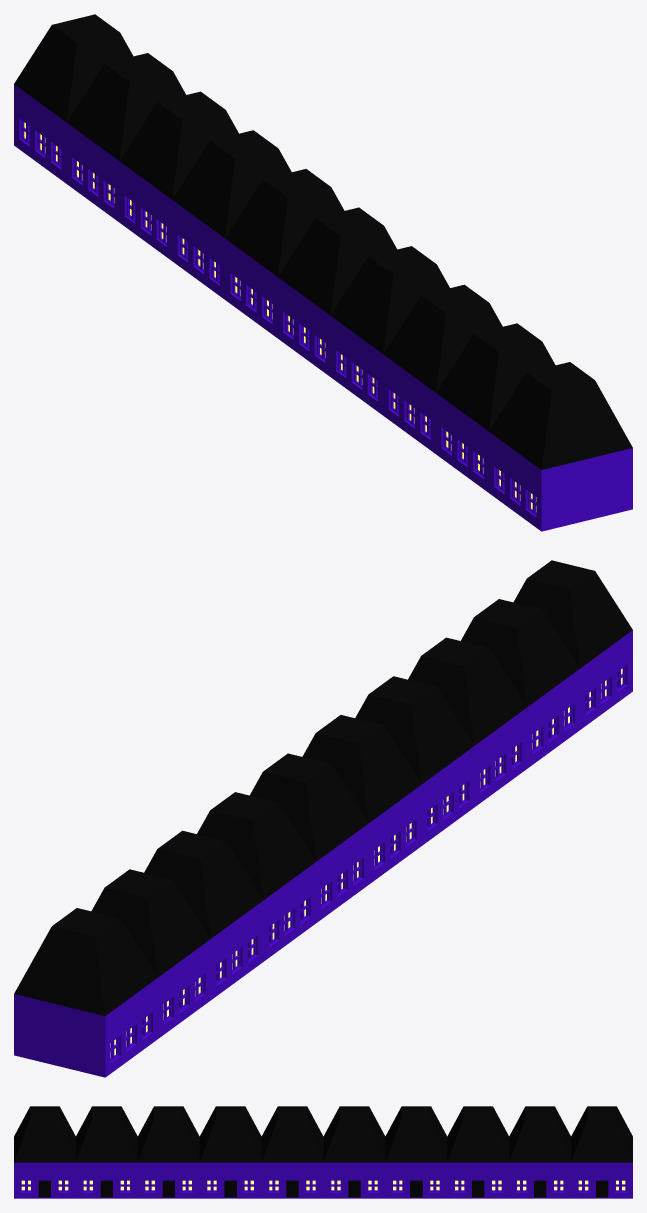
File: bungalows_1.fbx
The picture shows the model from 3 angles, top to bottom: view 1: azimuth 30°, elevation 25°; view 2: azimuth 150°, elevation 25°; view 3: azimuth 270°, elevation 25°; orthographic projection. The views are drawn at different scales.
Parts seen in each view (by area): view 1: Cube; view 2: Cube; view 3: Cube.
Part boxes in pixels (bbox=[...]): Cube: bbox=[14, 14, 632, 531]; Cube: bbox=[14, 560, 632, 1077]; Cube: bbox=[14, 1106, 632, 1198].
Bounding box in the file's own units: 28 × 36.56 × 280.
